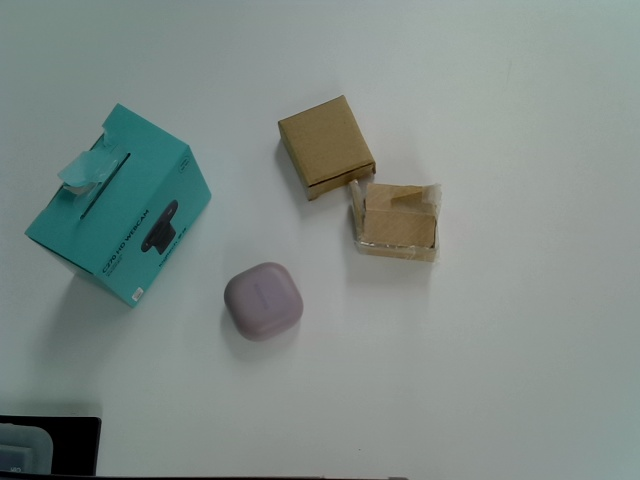defect: (349, 179, 442, 265)
normal: (276, 94, 376, 201)
